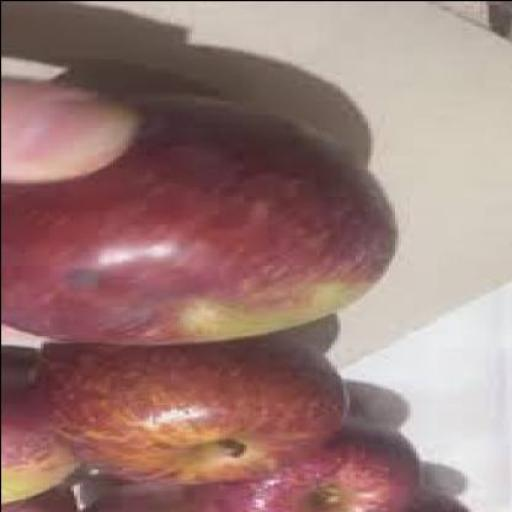biodegradable: (1, 89, 394, 348), (30, 327, 345, 488), (178, 399, 418, 511), (1, 372, 73, 506), (81, 482, 186, 511), (1, 482, 69, 511), (400, 486, 474, 511)
